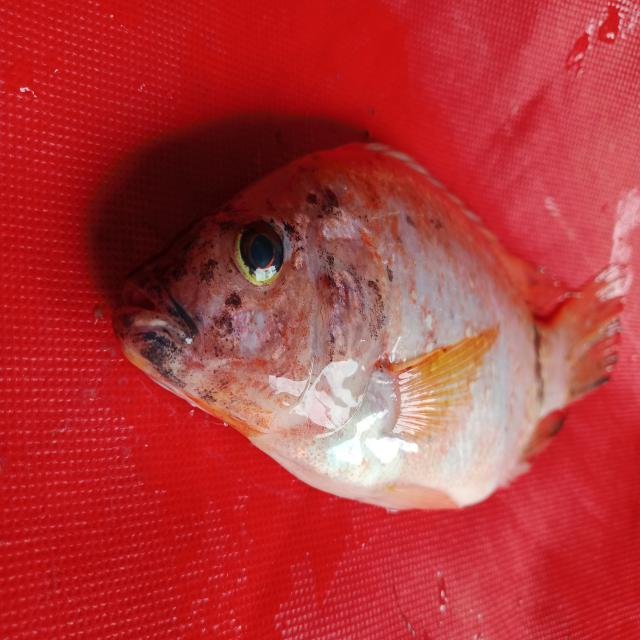ikan: (107, 124, 608, 525)
